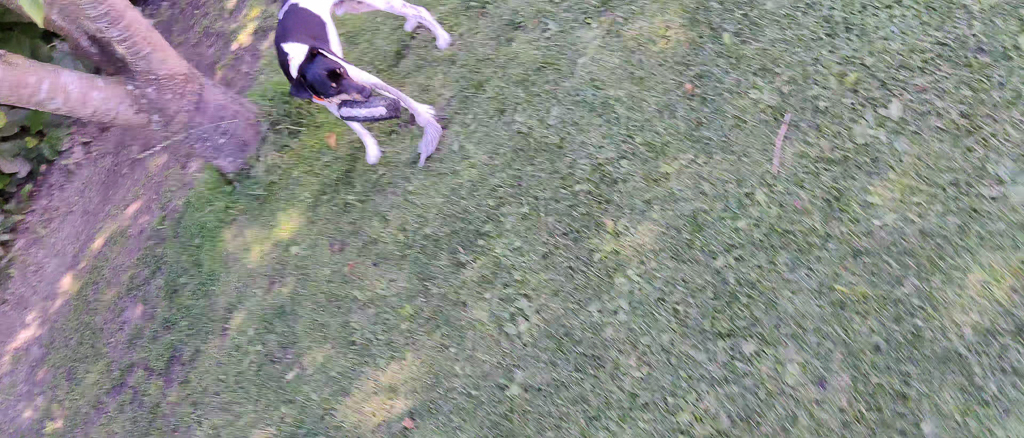Dog: (263, 0, 481, 175)
